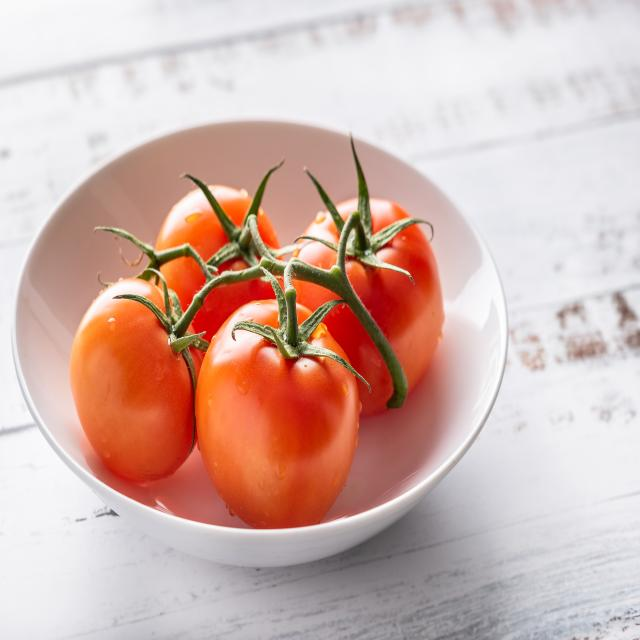tomato: (195, 299, 362, 528), (70, 278, 206, 480), (345, 224, 444, 390), (324, 309, 391, 416), (156, 189, 229, 262), (192, 280, 270, 339), (161, 258, 206, 312), (210, 185, 252, 226), (309, 323, 349, 363), (366, 198, 409, 231), (301, 210, 339, 243), (298, 281, 337, 312), (299, 242, 336, 269), (258, 208, 280, 249), (218, 256, 247, 272), (297, 304, 313, 324), (186, 323, 200, 334)
